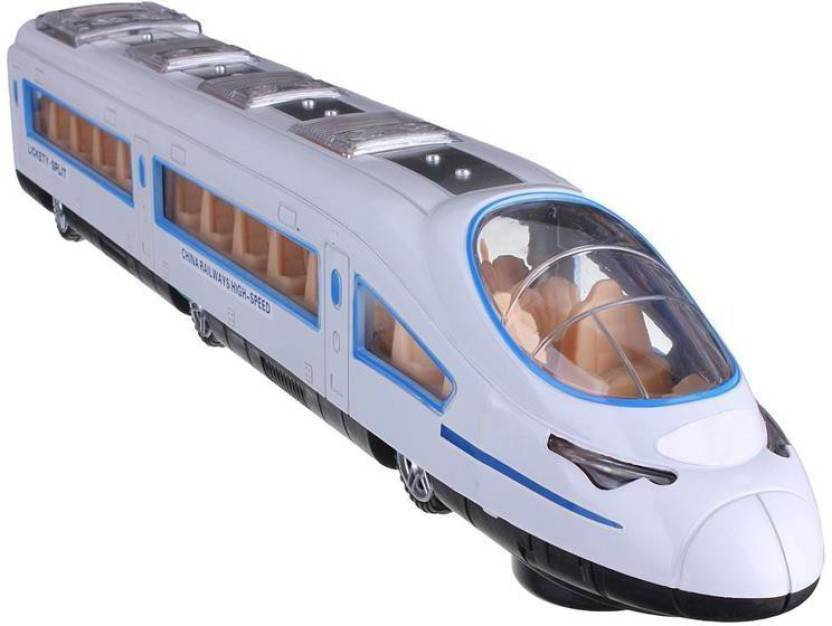train: (9, 7, 823, 610)
